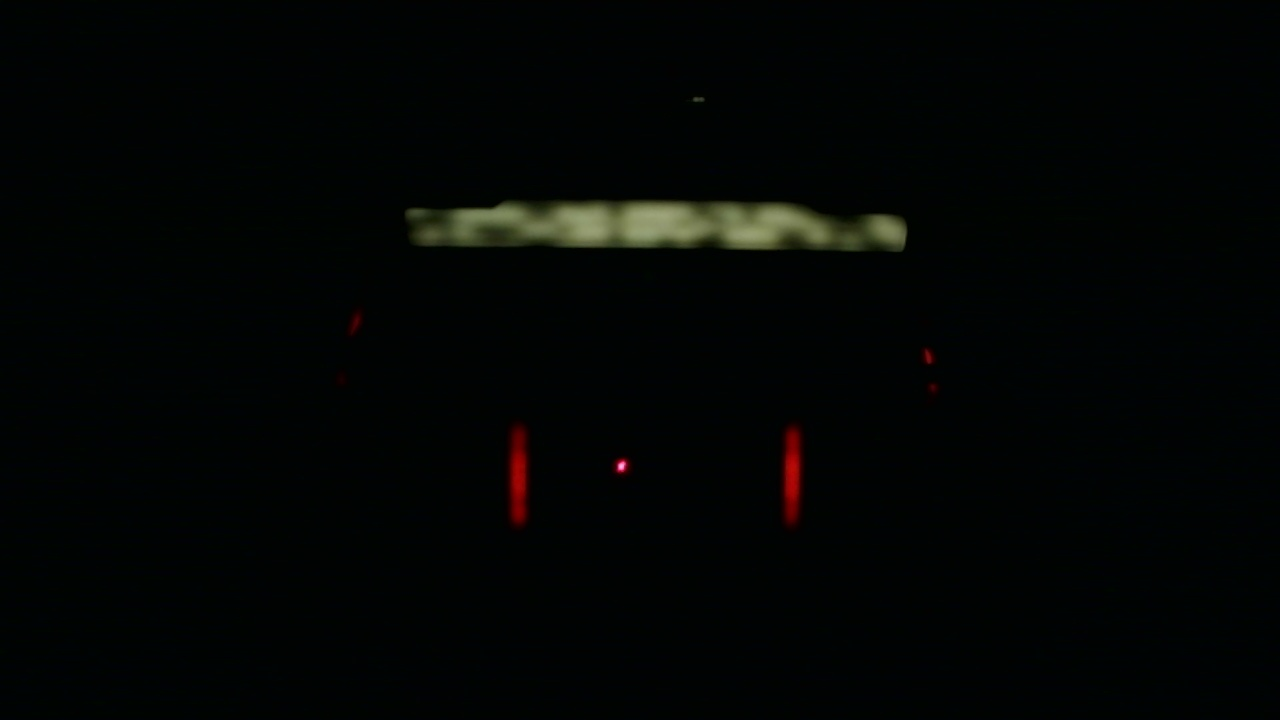lamp: (508, 424, 529, 530), (785, 424, 803, 526)
pair1: (508, 425, 804, 526)
